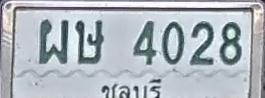0: (161, 20, 184, 64)
2: (190, 20, 214, 64)
4: (133, 19, 156, 64)
8: (219, 20, 242, 64)
A28: (38, 18, 68, 64)
A39: (75, 18, 104, 64)
CBI: (97, 77, 167, 98)
